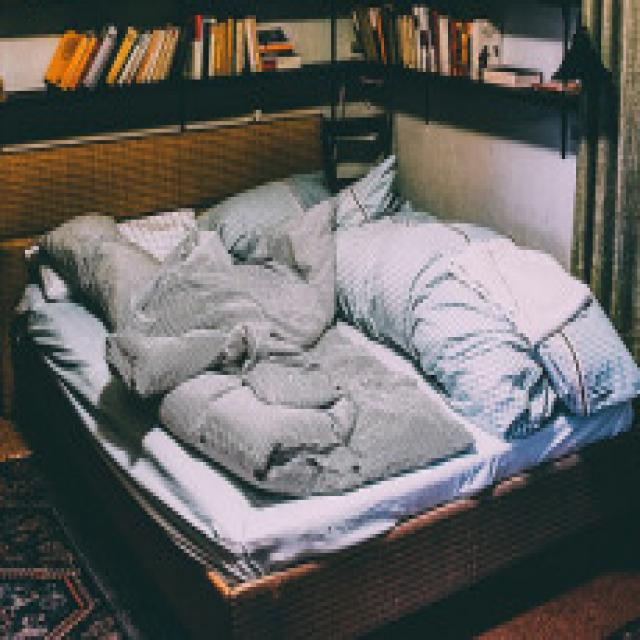bed: (26, 160, 626, 528)
